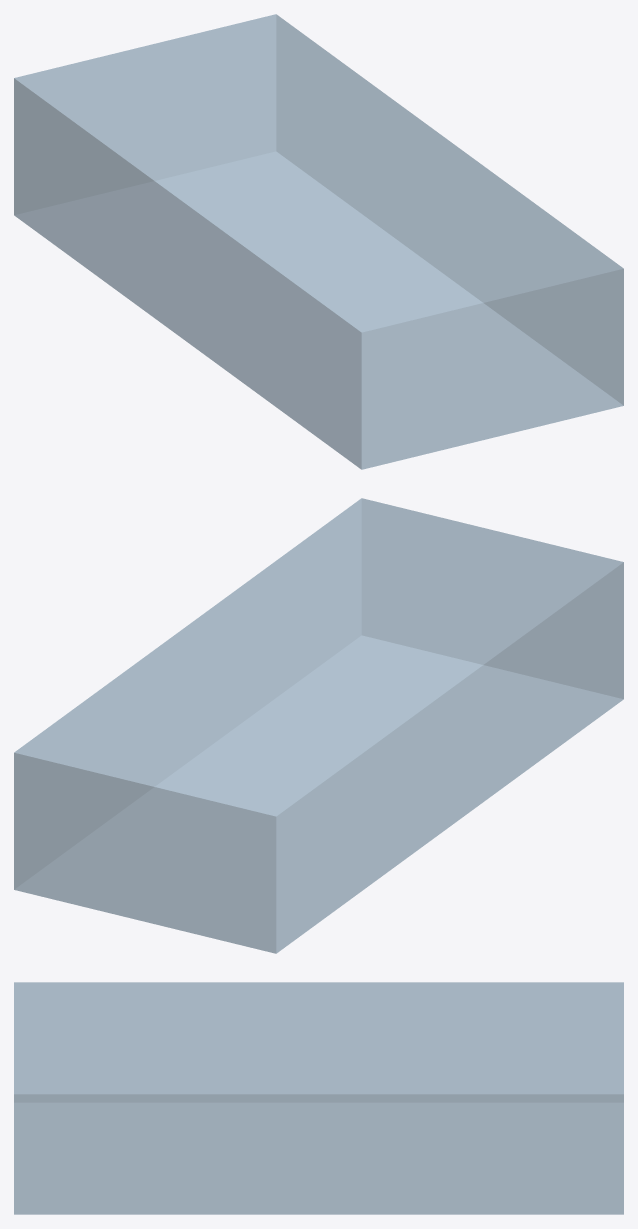
The model's file is blockout.glb.
3 renders of one model, top to bottom at view 1: azimuth 30°, elevation 25°; view 2: azimuth 150°, elevation 25°; view 3: azimuth 270°, elevation 25°, orthographic. The views are drawn at different scales.
Parts seen in each view (by area): view 1: B06_ENVELOPE_NOT_FINAL_MESH; view 2: B06_ENVELOPE_NOT_FINAL_MESH; view 3: B06_ENVELOPE_NOT_FINAL_MESH.
Part boxes in pixels (x1,y1,x2,y2): B06_ENVELOPE_NOT_FINAL_MESH: (14,14,623,469); B06_ENVELOPE_NOT_FINAL_MESH: (14,498,623,953); B06_ENVELOPE_NOT_FINAL_MESH: (14,982,623,1214).
Size of the model in its own units: 2.7 by 1.35 by 6.2.
